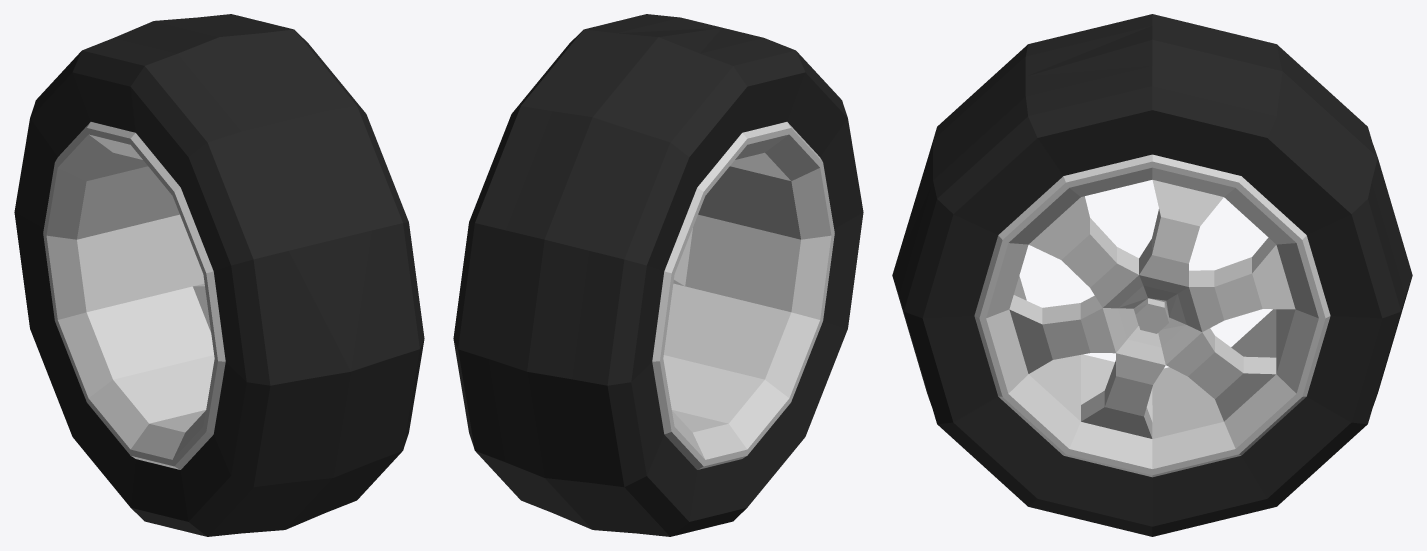
The model's file is 1365 Tire.obj.
The picture shows the model from 3 angles, left to right: view 1: azimuth 30°, elevation 25°; view 2: azimuth 150°, elevation 25°; view 3: azimuth 270°, elevation 25°; orthographic projection.
Parts seen in each view (by area): view 1: Tire; view 2: Tire; view 3: Tire.
Part boxes in pixels (x1,y1,x2,y2): Tire: (14,14,424,536); Tire: (453,14,863,536); Tire: (892,14,1412,536).
Bounding box in the file's own units: 7.3 × 18.34 × 18.34.
Materials: 1 (1 with a texture image).
